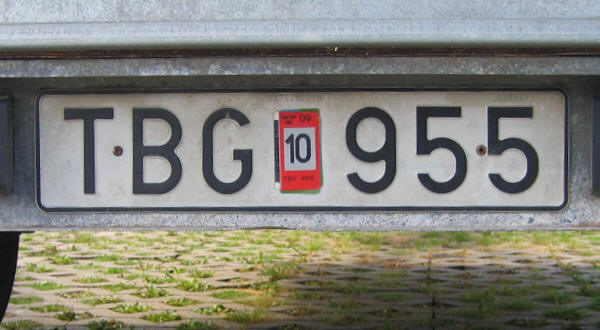license_plate: (34, 89, 568, 213)
